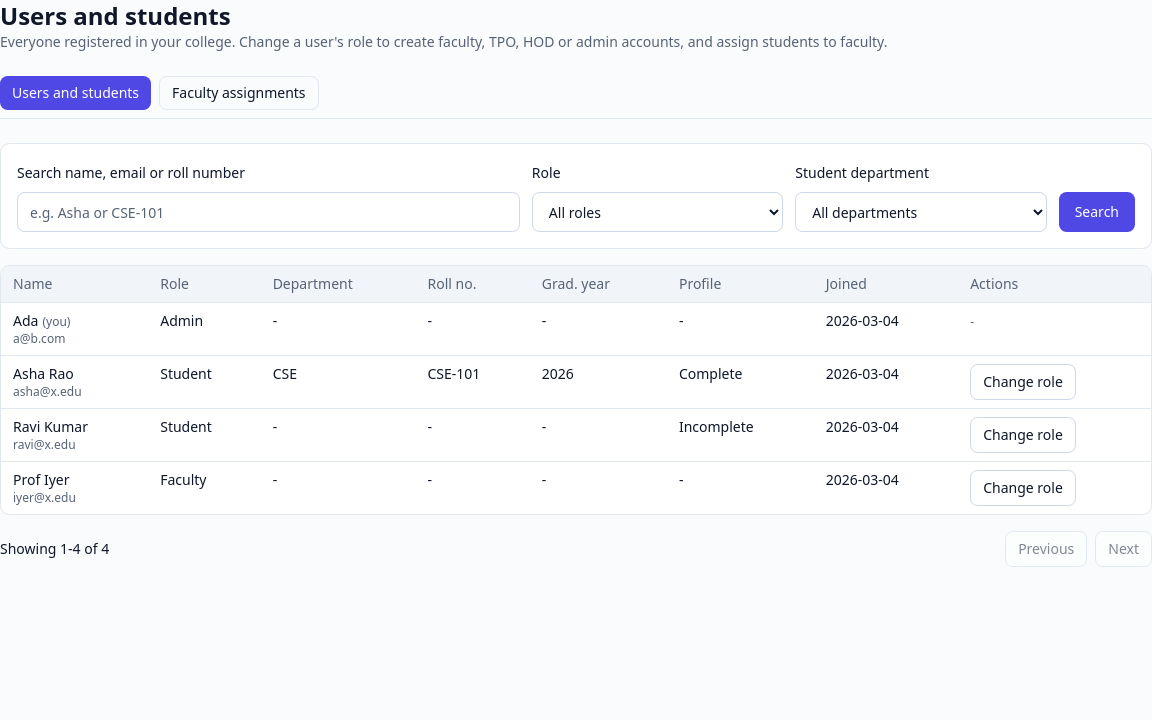
Test: AdminUsersPage - users tab › warns that leaving Faculty removes assignments and reports how many were removed
Expected: the text "Prof Iyer" is shown, top-left (13, 470), bottom-right (70, 489)
Click the button "Change role" in the row of "Prof Iyer": (1023, 488) top-left (970, 470), bottom-right (1076, 506)
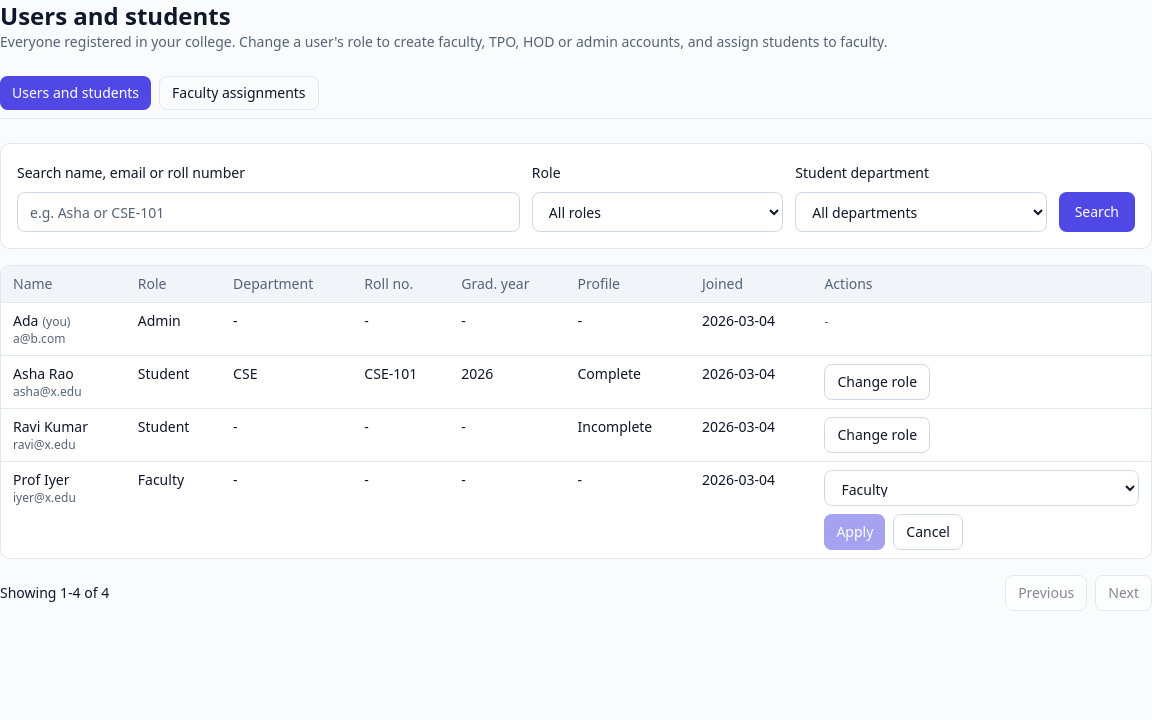
Select "Student" in the dropdown named "New role for Prof Iyer": (982, 488) top-left (824, 470), bottom-right (1139, 506)
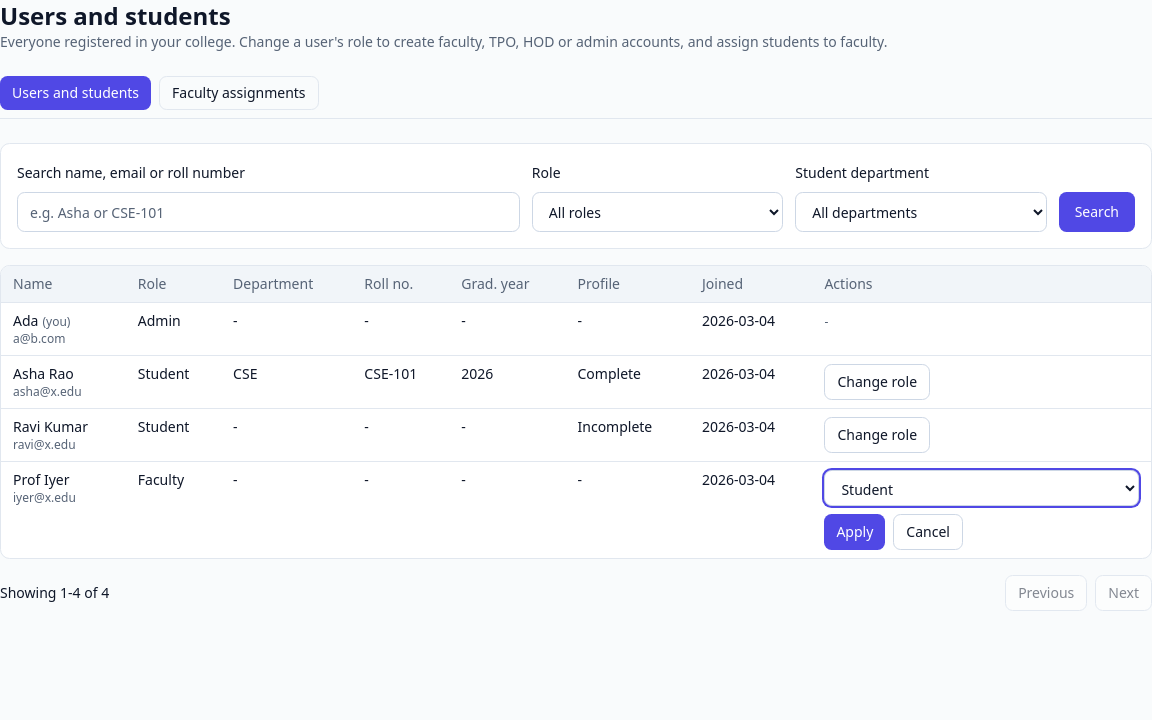
Click the button "Apply": (855, 532) top-left (824, 514), bottom-right (885, 550)
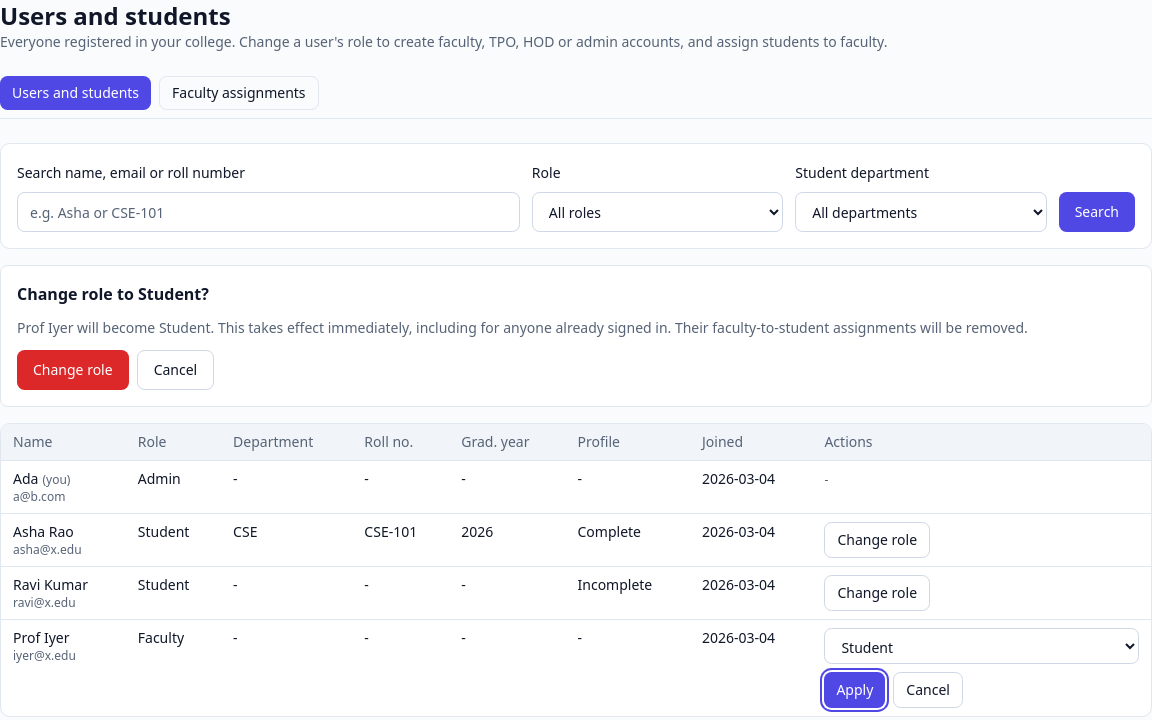
Now the dialog shows "faculty-to-student assignments will be removed", box top-left (17, 318), bottom-right (1028, 337)
Click the button "Change role" below "Change role to Student?": (73, 370) top-left (17, 350), bottom-right (129, 390)
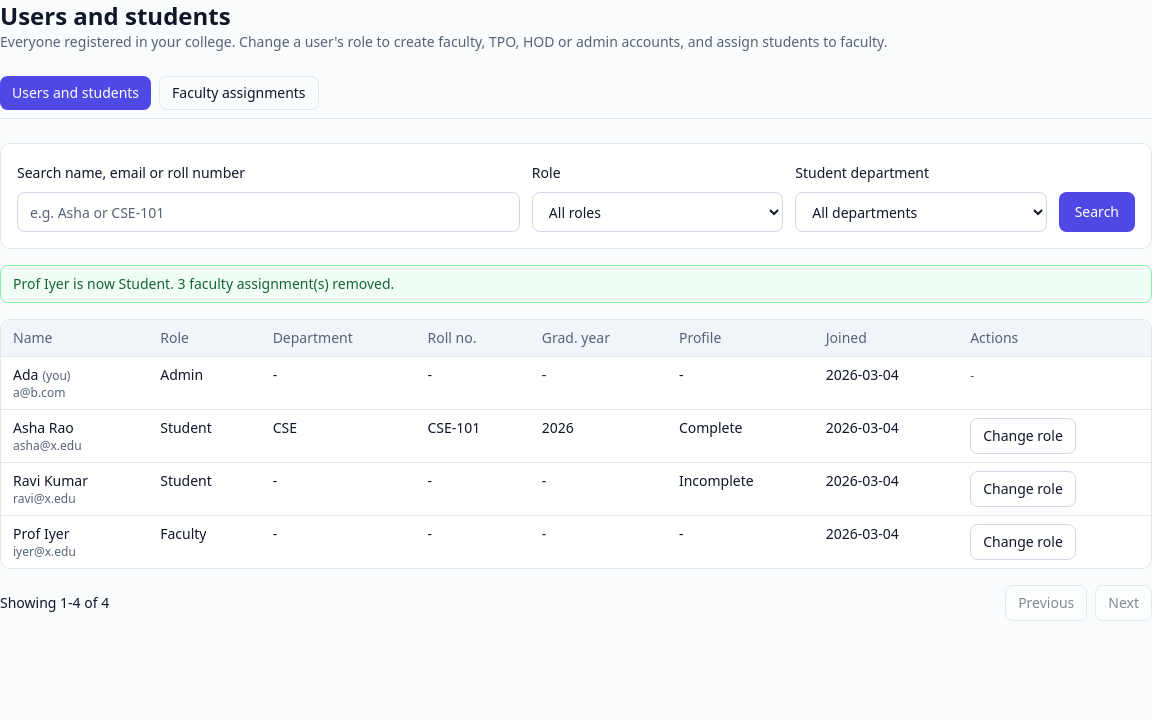
Now the text "Prof Iyer is now Student. 3 faculty assignment(s) removed." is shown, box top-left (0, 265), bottom-right (1151, 303)
